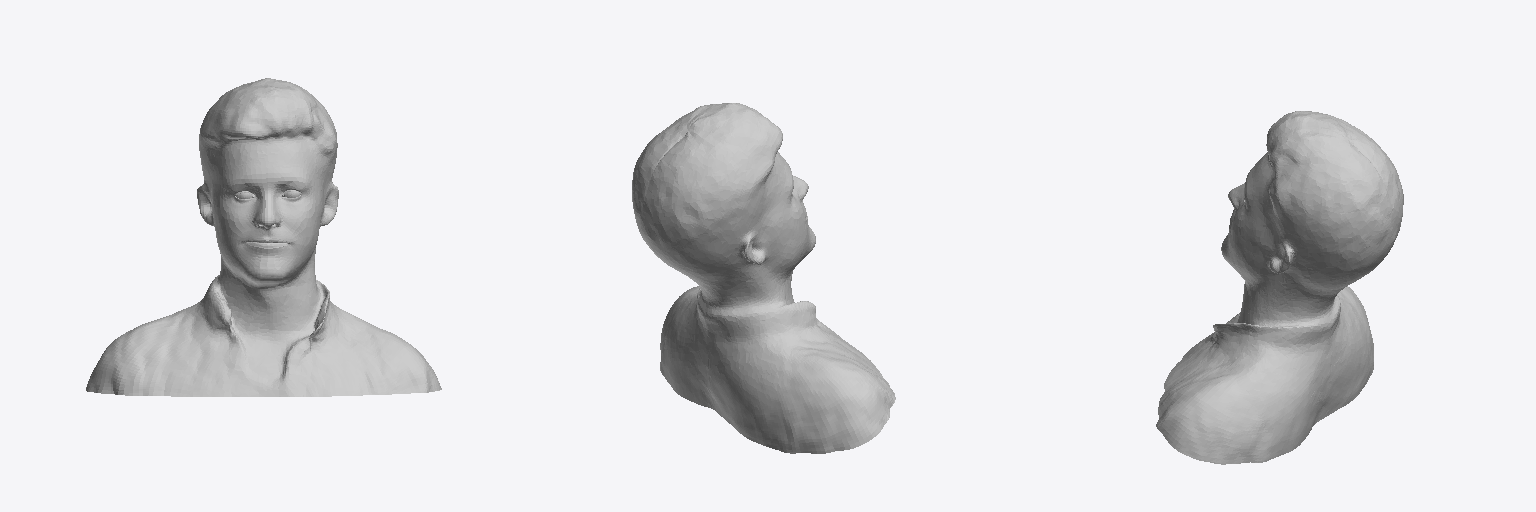
The model's file is zoomed_in.obj.
The picture shows the model from 3 angles: view 1: azimuth 30°, elevation 25°; view 2: azimuth 150°, elevation 25°; view 3: azimuth 270°, elevation 25°; orthographic projection.
Bounding box in the file's own units: 0.6267 × 0.6549 × 0.4805.